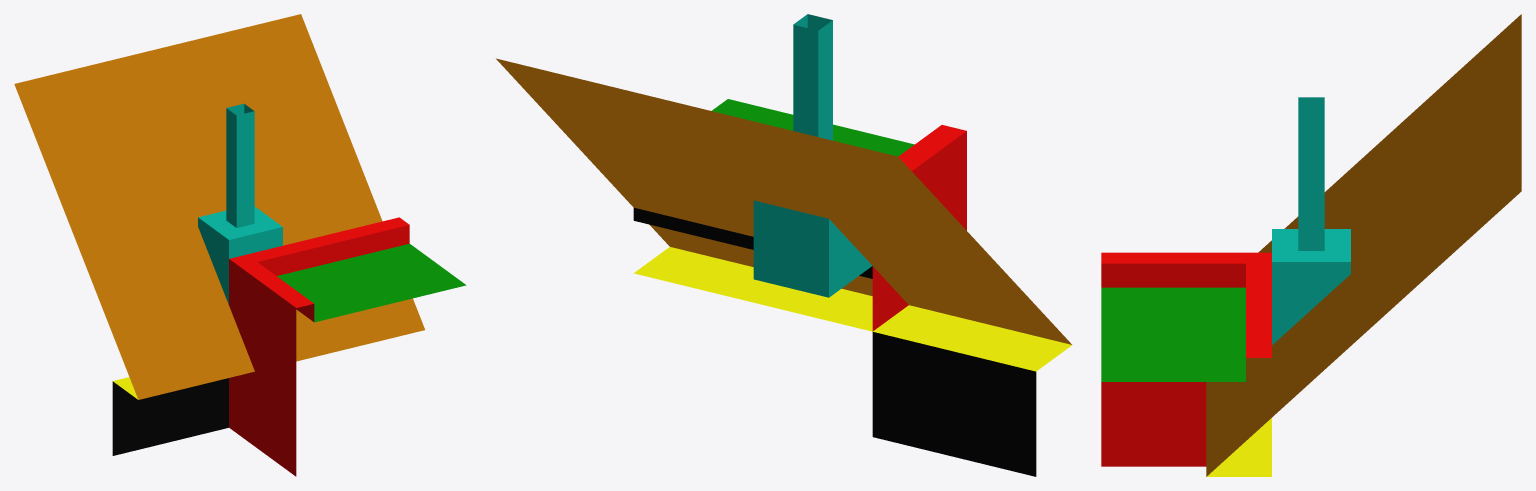
Rendered from None_S_W_E_E_S_E_E_E_BigStrut.fbx.
3 renders of one model, left to right at view 1: azimuth 30°, elevation 25°; view 2: azimuth 150°, elevation 25°; view 3: azimuth 270°, elevation 25°, orthographic. The views are drawn at different scales.
Visible parts, largest first — view 1: None_S_W_E_E_S_E_E_E_BigStrut; view 2: None_S_W_E_E_S_E_E_E_BigStrut; view 3: None_S_W_E_E_S_E_E_E_BigStrut.
Boxes of the visible parts, box(x1,y1,x2,y2) form: None_S_W_E_E_S_E_E_E_BigStrut: box(14, 14, 466, 476); None_S_W_E_E_S_E_E_E_BigStrut: box(496, 14, 1071, 476); None_S_W_E_E_S_E_E_E_BigStrut: box(1101, 14, 1521, 476).
Bounding box in the file's own units: 100 × 100 × 100.
